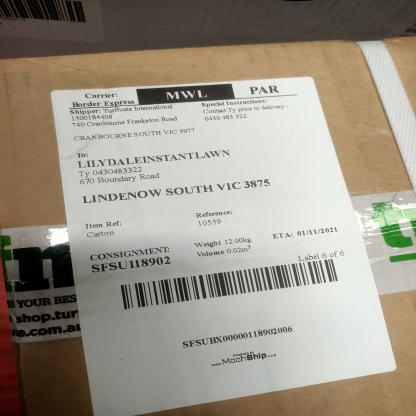label: (52, 78, 396, 416)
package: (0, 36, 416, 416)
